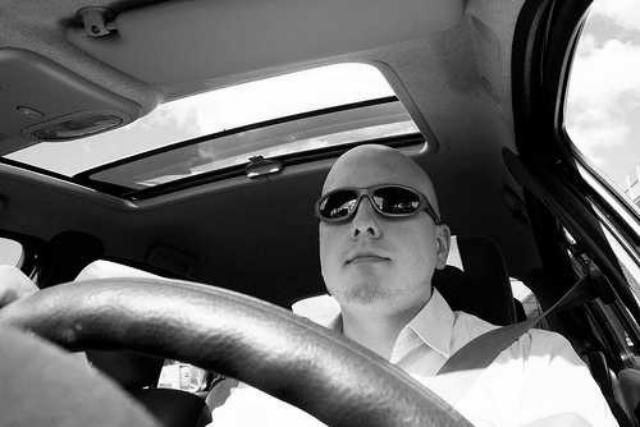Seatbelt: (432, 247, 596, 378)
